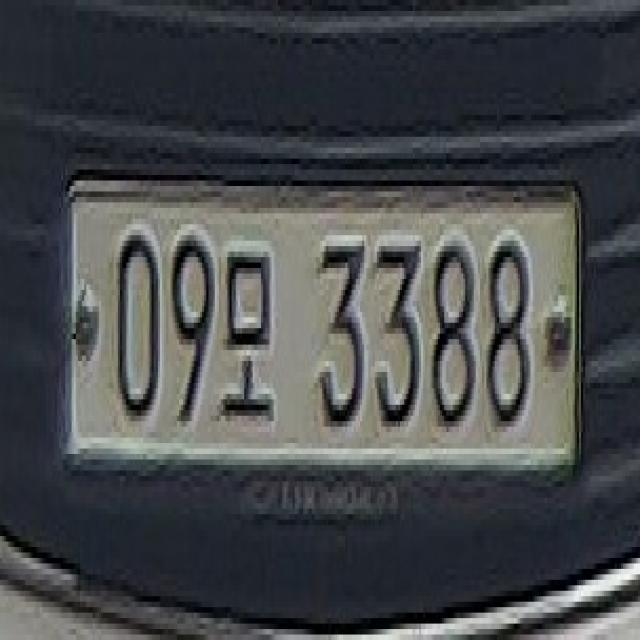0: (111, 217, 163, 438)
3: (315, 227, 370, 446), (372, 232, 425, 432)
8: (429, 213, 484, 444), (486, 221, 536, 438)
9: (168, 220, 214, 443)
license_plate: (60, 159, 601, 493)
mo: (218, 233, 286, 439)
